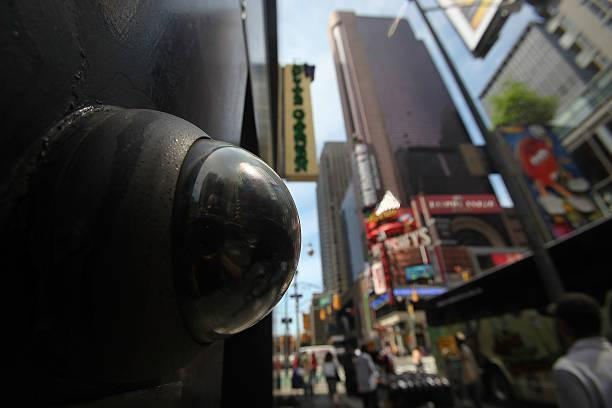camera: (75, 101, 338, 385)
